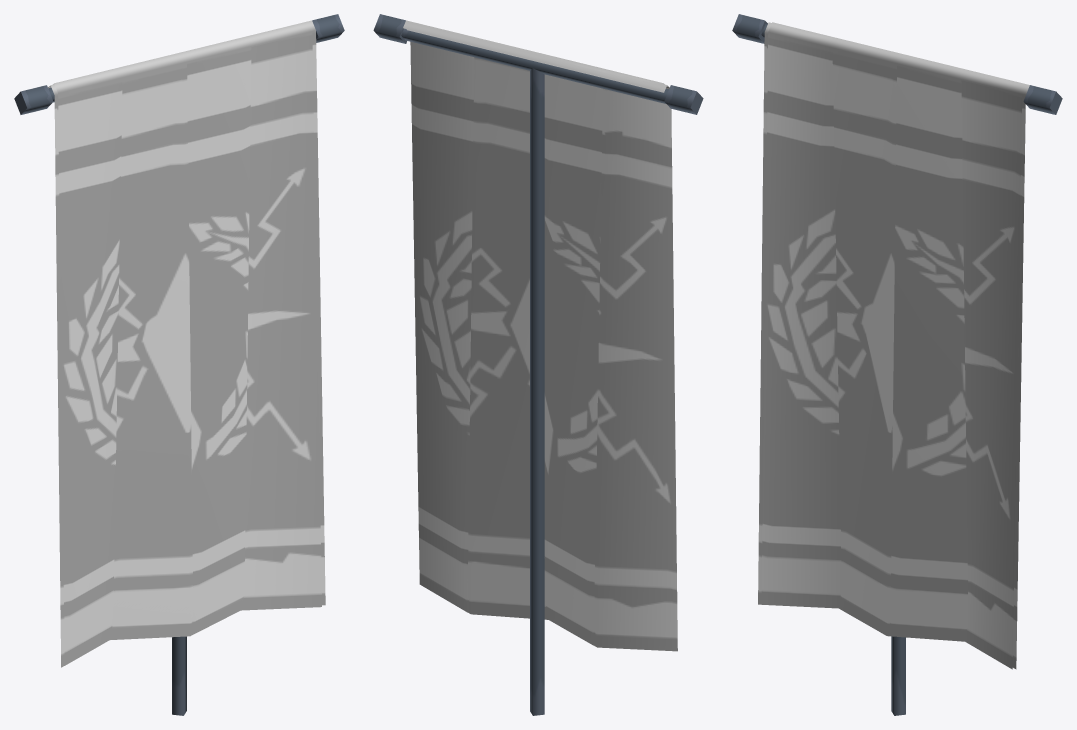
Rendered from BannerStandWide1.fbx.
The picture shows the model from 3 angles, left to right: view 1: azimuth 30°, elevation 25°; view 2: azimuth 150°, elevation 25°; view 3: azimuth 330°, elevation 25°; orthographic projection.
Visible parts, largest first — view 1: BannerSmallWide2, BannerSmallWide1, BannerStandWide1, BannerStand; view 2: BannerSmallWide2, BannerSmallWide1, BannerStand, BannerStandWide1; view 3: BannerSmallWide1, BannerSmallWide2, BannerStandWide1, BannerStand.
Part boxes in pixels (box(x1,y1,x2,y2)): BannerSmallWide2: box(48, 32, 321, 667); BannerSmallWide1: box(53, 20, 325, 665); BannerStandWide1: box(14, 14, 344, 114); BannerStand: box(172, 636, 186, 715); BannerSmallWide2: box(406, 29, 677, 651); BannerSmallWide1: box(403, 20, 664, 645); BannerStand: box(530, 68, 544, 715); BannerStandWide1: box(373, 14, 703, 114); BannerSmallWide1: box(761, 22, 1029, 669); BannerSmallWide2: box(758, 22, 1022, 669); BannerStandWide1: box(732, 14, 1062, 114); BannerStand: box(891, 636, 905, 715).
Bounding box in the file's own units: 269 × 534 × 29.56.
